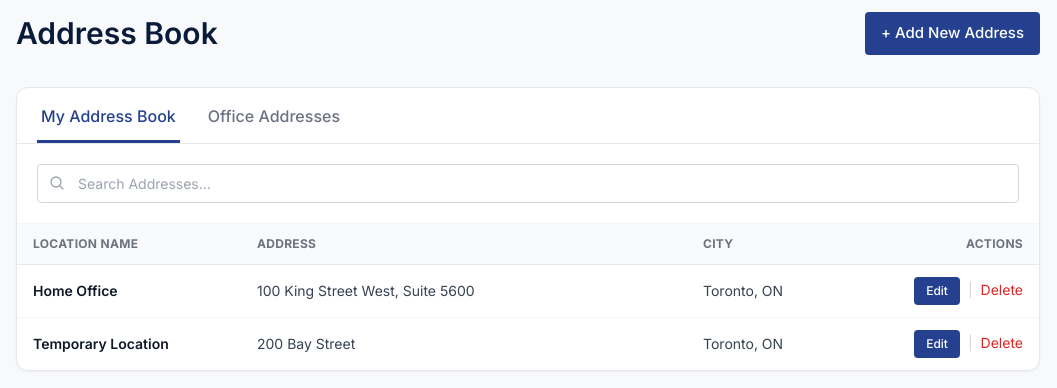
AddressBookPage › AB-18 Search on My tab filters personal list
Type "Home" into the search field with placeholder "Search Addresses...". click: (528, 183)
box: [37, 164, 1019, 203]
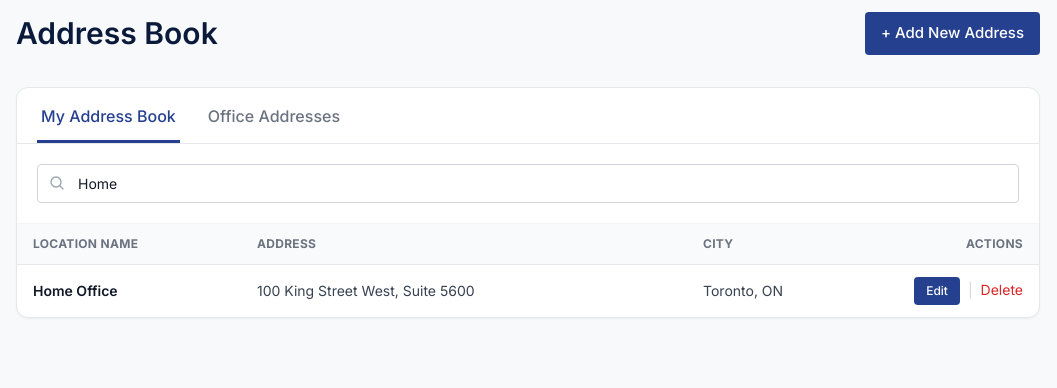
Expected: the text "Home Office" is shown, [17, 264, 241, 317]
Now the text "Temporary Location" is gone
